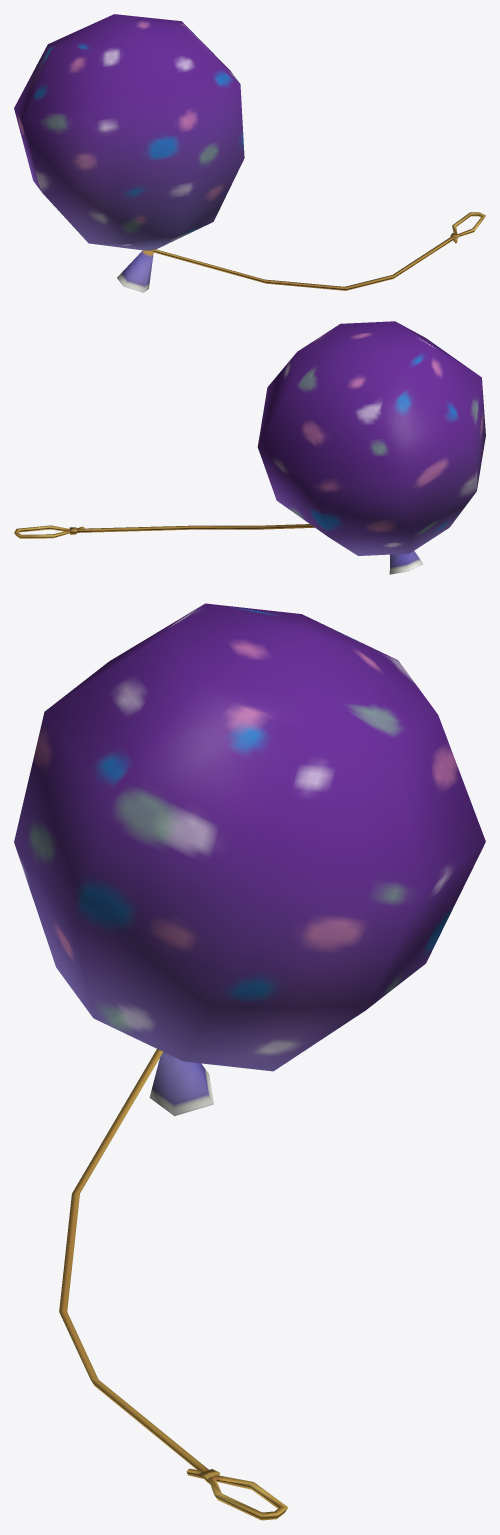
Rendered from jsf_WaterBalloon_18_b.fbx.
The picture shows the model from 3 angles, top to bottom: view 1: azimuth 30°, elevation 25°; view 2: azimuth 150°, elevation 25°; view 3: azimuth 270°, elevation 25°; orthographic projection. The views are drawn at different scales.
Parts seen in each view (by area): view 1: jsf_WaterBalloon_18_b; view 2: jsf_WaterBalloon_18_b; view 3: jsf_WaterBalloon_18_b.
Part boxes in pixels (x1=…): jsf_WaterBalloon_18_b: x1=14, y1=14, x2=485, y2=292; jsf_WaterBalloon_18_b: x1=14, y1=321, x2=485, y2=574; jsf_WaterBalloon_18_b: x1=14, y1=603, x2=485, y2=1520.
Size of the model in its own units: 24.35 by 14.34 by 11.11.
